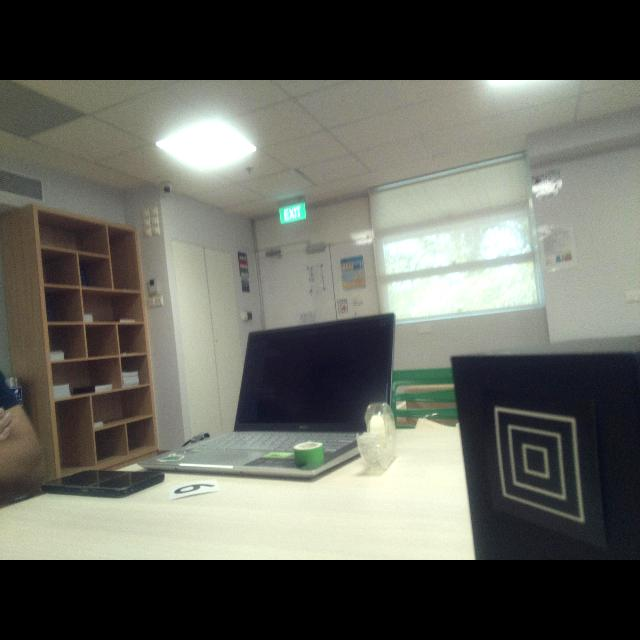BULLSEYE: (494, 407, 585, 524)
